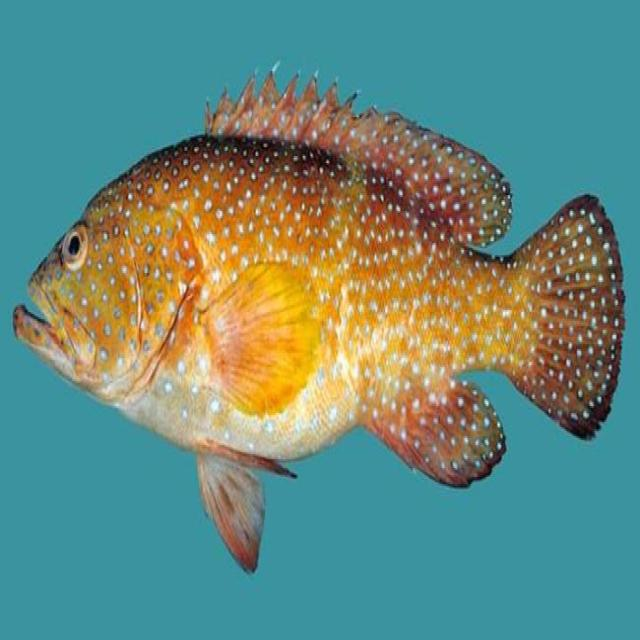ikan: (8, 26, 634, 600)
